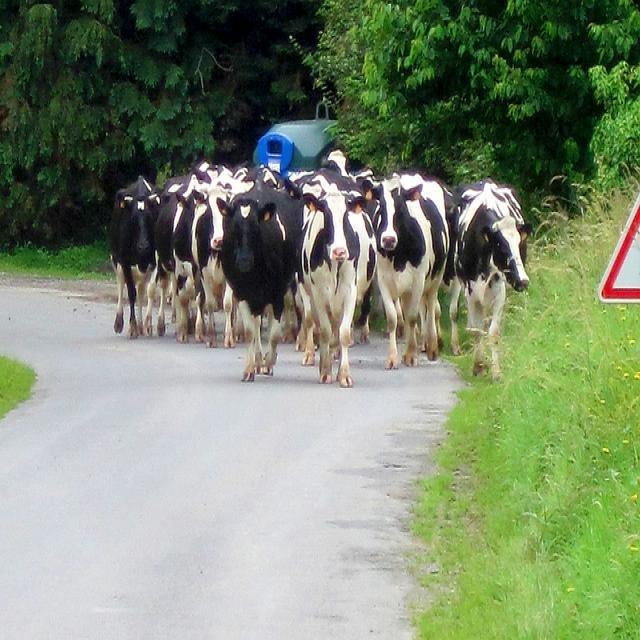cow: (107, 158, 454, 354), (448, 174, 534, 386), (216, 176, 303, 380), (368, 169, 449, 371), (295, 188, 376, 383), (189, 184, 234, 347), (168, 173, 209, 343), (140, 183, 183, 335), (114, 179, 155, 336), (355, 172, 401, 213), (159, 156, 209, 189), (298, 168, 356, 196), (209, 163, 254, 193), (326, 148, 346, 172)
